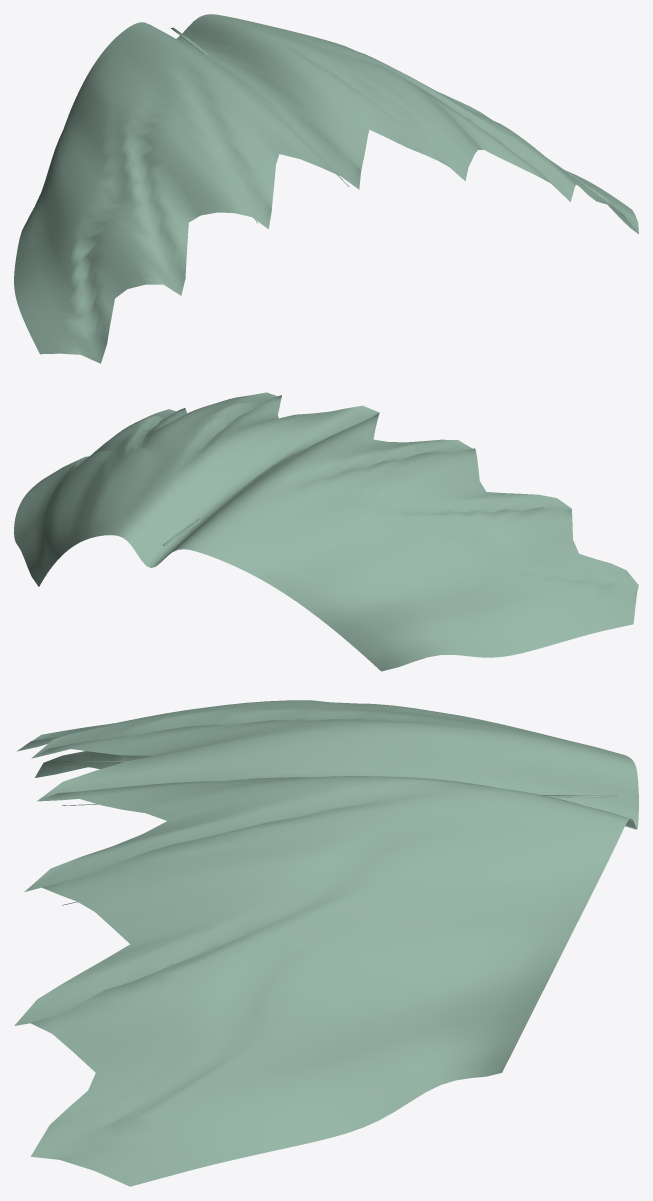
File: yani-crown.glb
3 views of the same model, one above another, from view 1: azimuth 30°, elevation 25°; view 2: azimuth 150°, elevation 25°; view 3: azimuth 270°, elevation 25° (orthographic). The views are drawn at different scales.
Visible parts, largest first — view 1: CrownScalpCap; view 2: CrownScalpCap; view 3: CrownScalpCap.
Part boxes in pixels (box(x1,y1,x2,y2)): CrownScalpCap: box(14, 14, 638, 363); CrownScalpCap: box(14, 392, 638, 671); CrownScalpCap: box(14, 700, 638, 1186).
Size of the model in its own units: 1.74 by 0.44 by 1.1.
